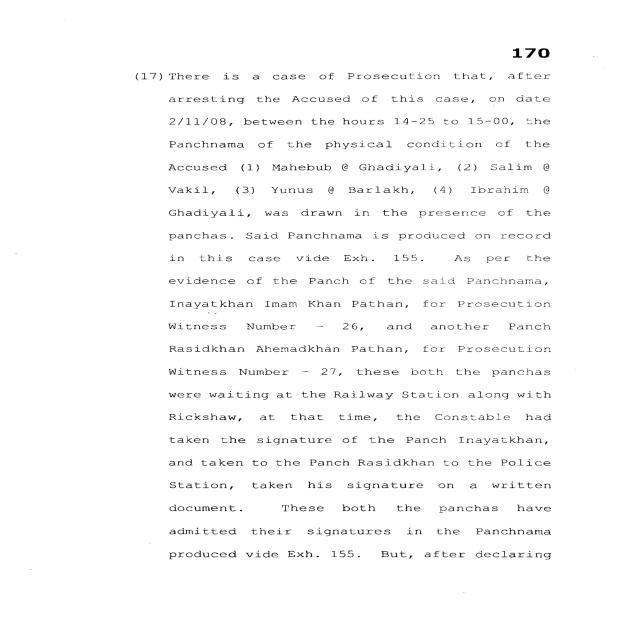page-number: (431, 1, 635, 67)
